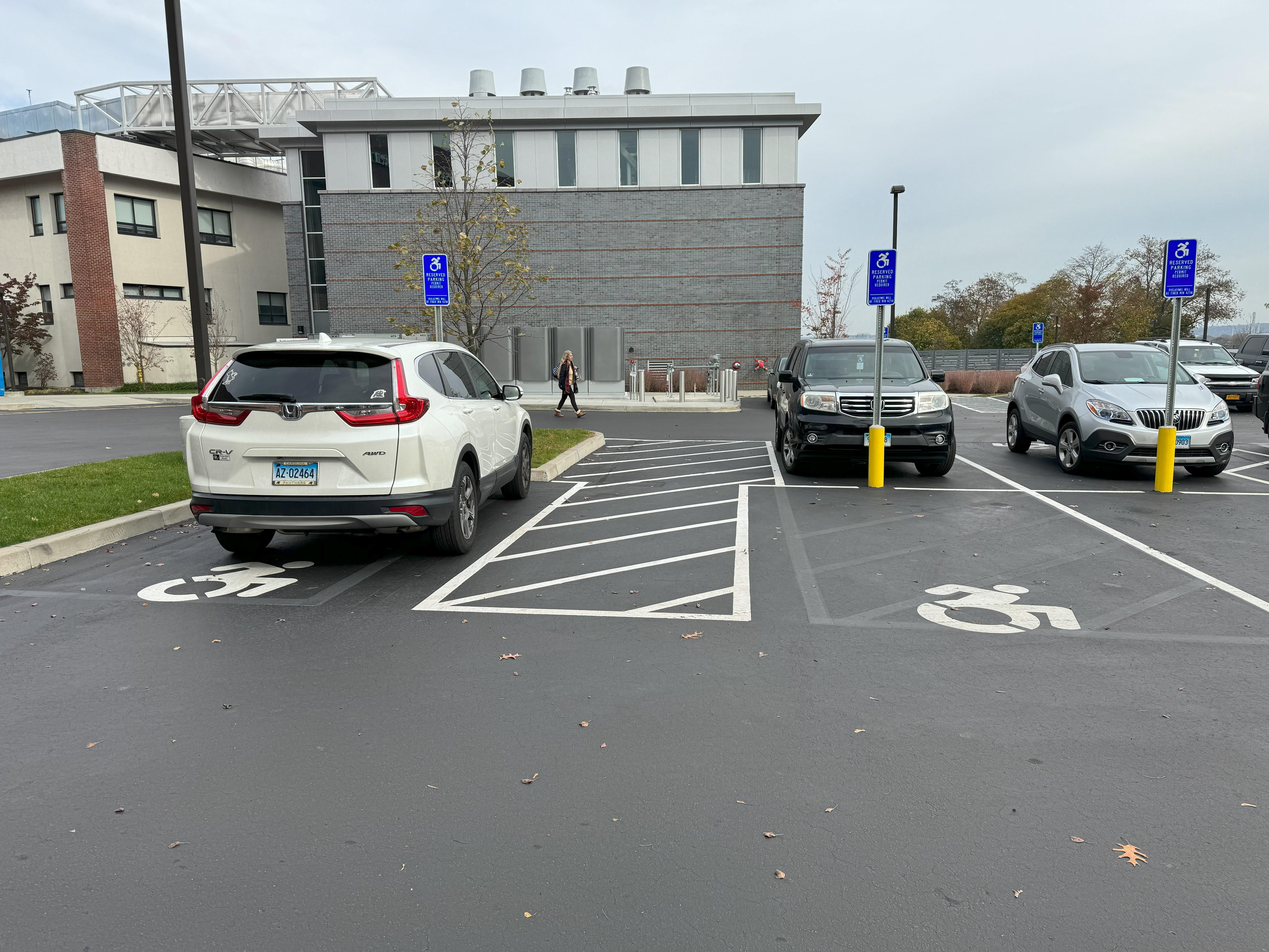empty: (758, 503, 1207, 645)
occupied: (163, 323, 562, 568), (747, 314, 983, 488), (1002, 327, 1246, 480)
